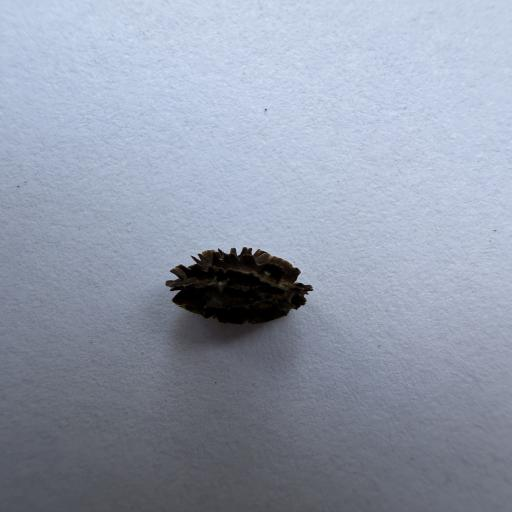papaya_seed: (146, 220, 325, 351)
